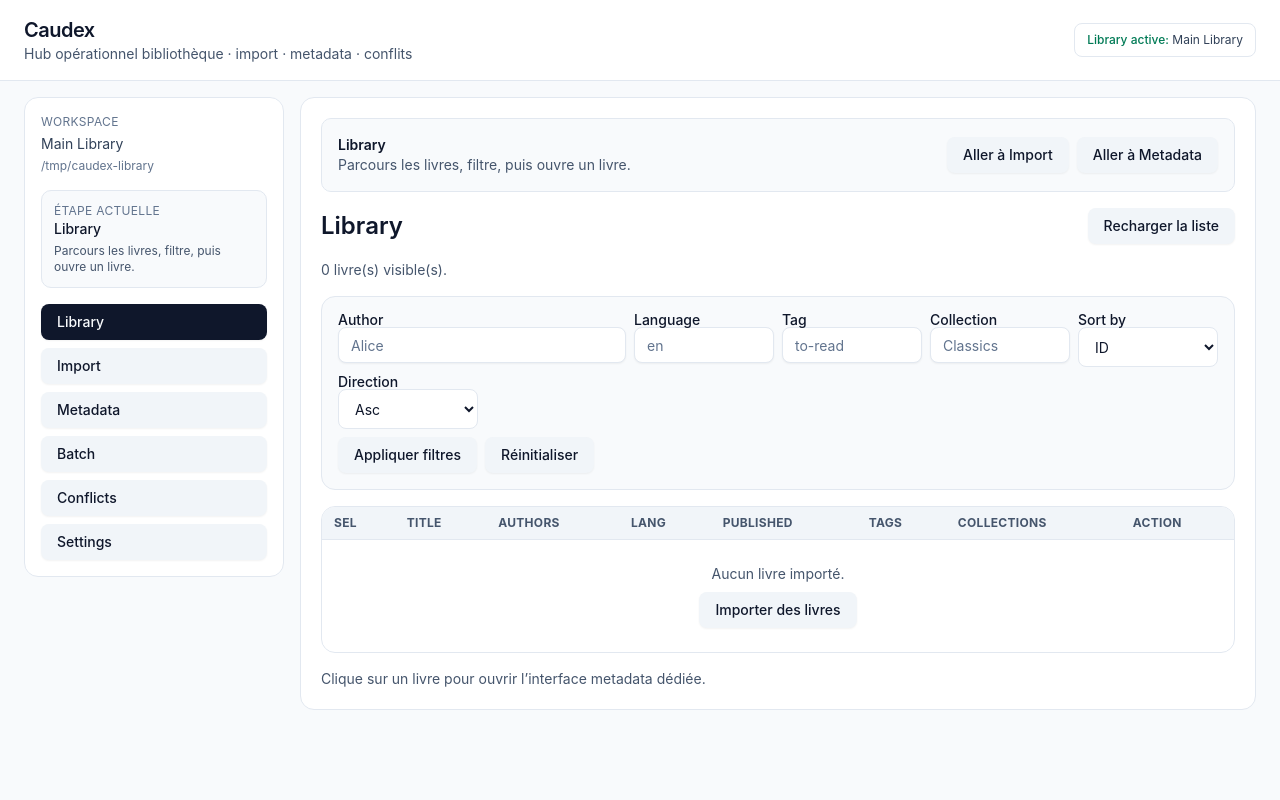
Test: workspace flow › imports selected files from the import step
Click the button "Import": point(154, 366) [41, 348, 267, 384]
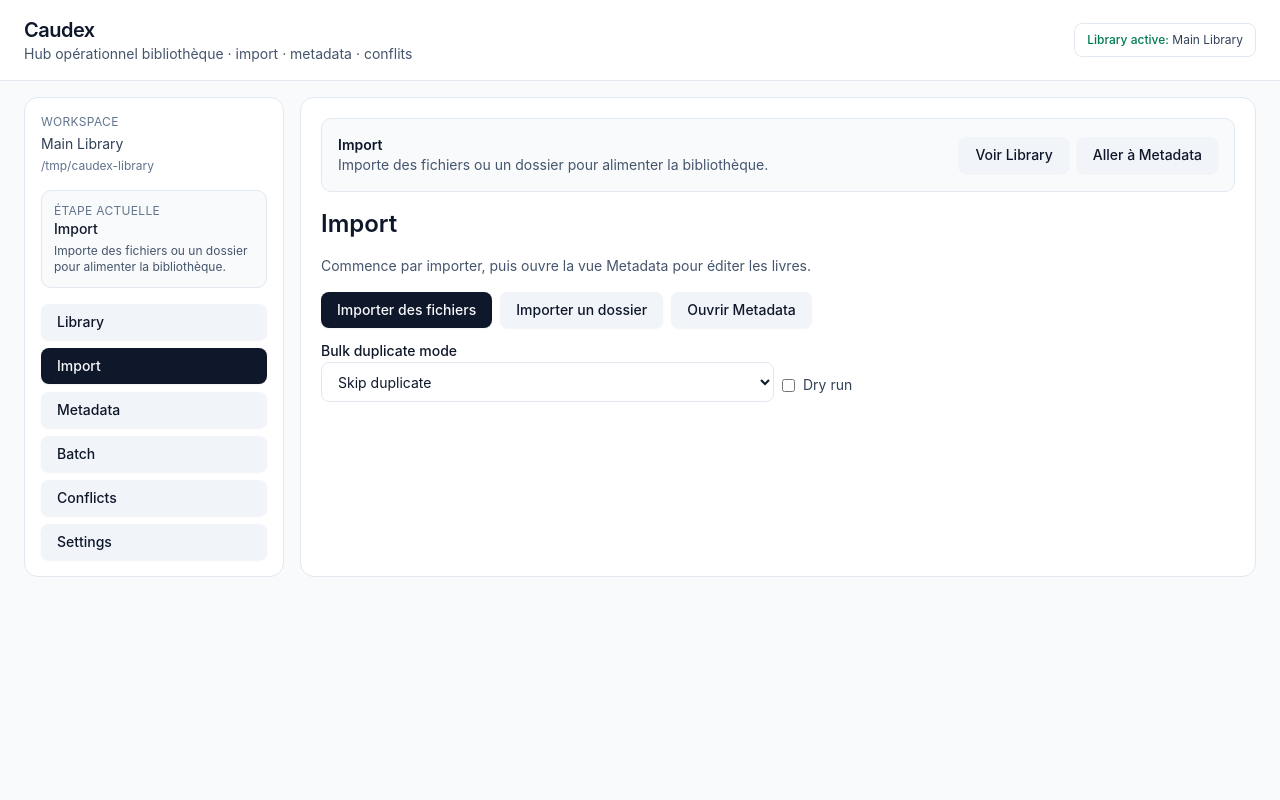
Click the button "Importer des fichiers": point(407, 310) [321, 292, 492, 328]
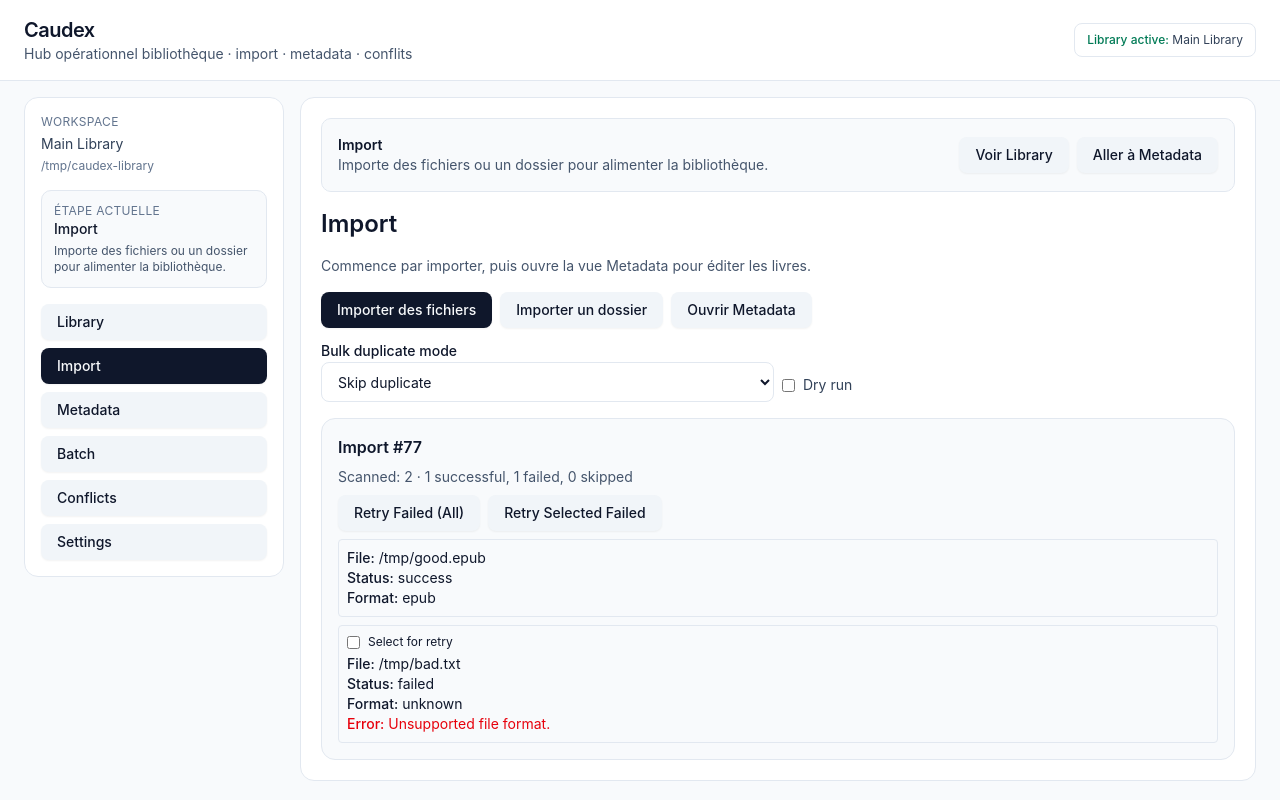
Check: the text "Error: Unsupported file format." is shown, box [347, 715, 550, 732]
